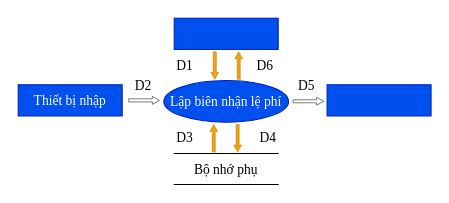
The diagram is 449 pixels wide and 203 high, and some of its shapes have lost their labels. Each missing label, with the centre of its shape:
"Người dùng" goes at point 225,33.
"Thiết bị xuất" goes at point 378,100.
